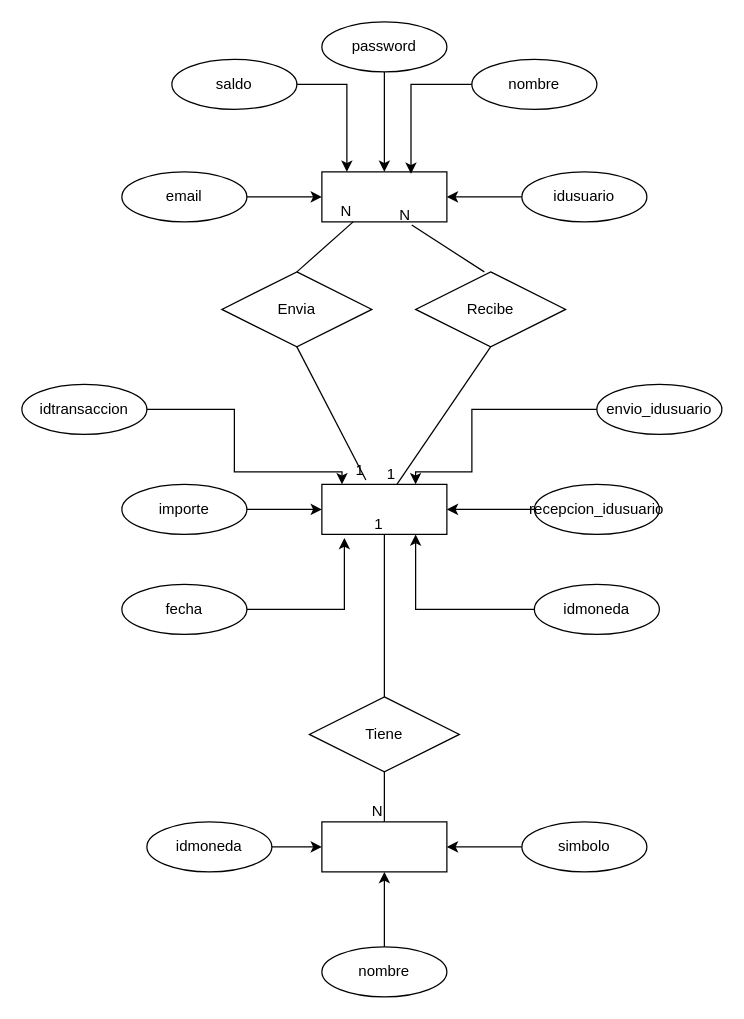
The diagram is 744 pixels wide and 1019 high, and some of its shapes have lost their labels. Here are the shapes that lost their labels. From the top down, the box of each, then its label:
(321, 171, 447, 222): Usuario
(321, 483, 447, 534): Transaccion
(321, 821, 447, 872): Moneda
